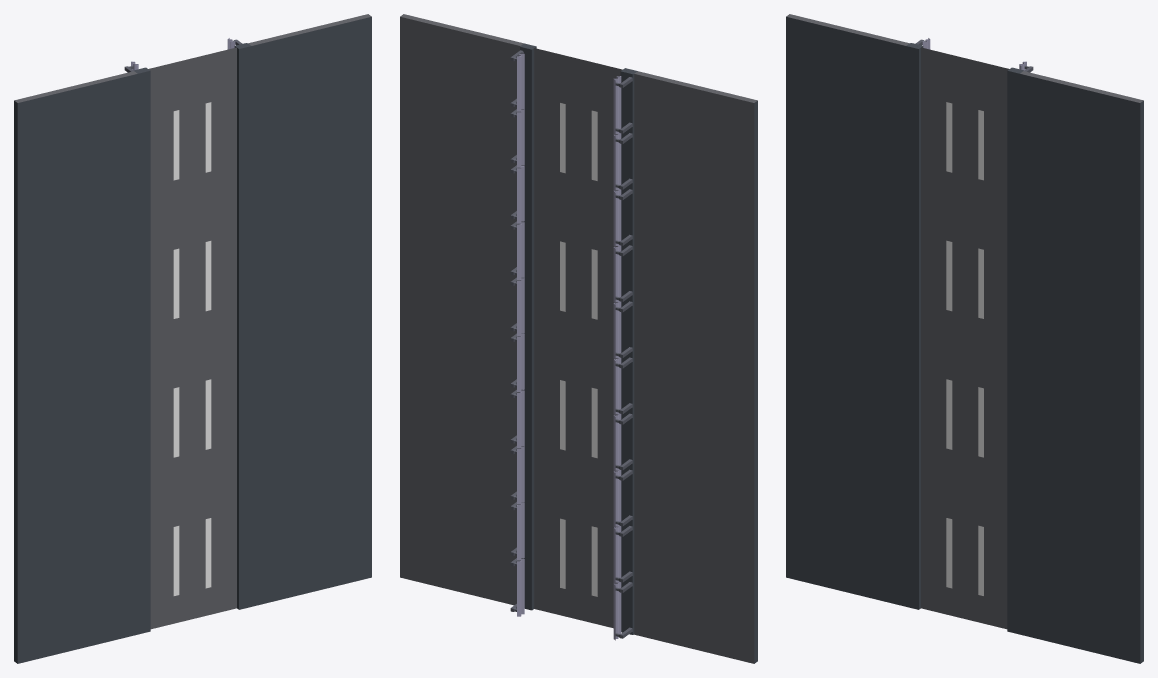
File: Road straight.fbx
3 renders of one model, left to right at view 1: azimuth 30°, elevation 25°; view 2: azimuth 150°, elevation 25°; view 3: azimuth 330°, elevation 25°, orthographic.
Parts seen in each view (by area): view 1: Road; view 2: Road, Fence; view 3: Road.
Boxes of the visible parts, box(x1,y1,x2,y2) form: Road: box(14, 14, 371, 663); Road: box(400, 14, 757, 663); Fence: box(510, 50, 632, 640); Road: box(786, 14, 1143, 663).
Bounding box in the file's own units: 29.72 × 2.11 × 44.98.
